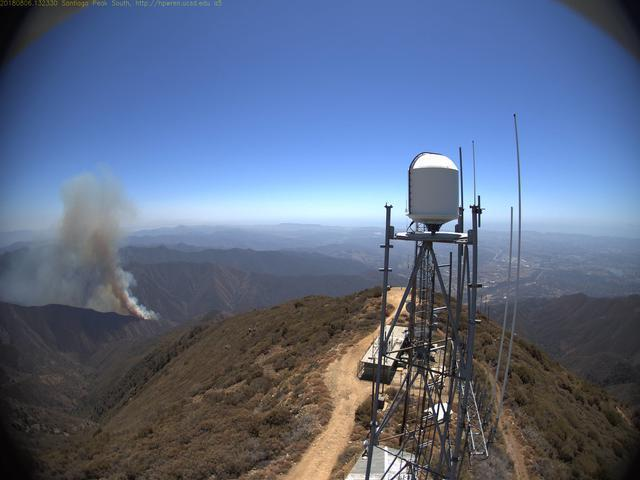Smoke: (1, 170, 160, 325)
